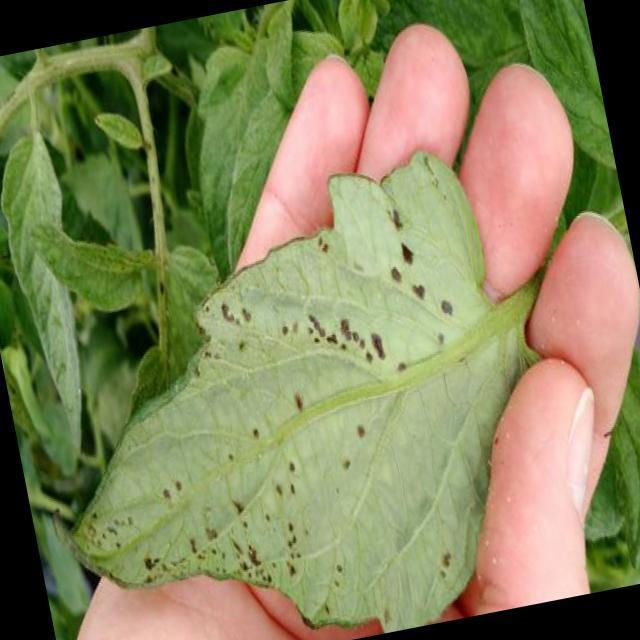Bacterial Spot: (65, 393, 465, 640), (188, 190, 486, 428)
Healthy Leaf: (0, 116, 110, 461)
